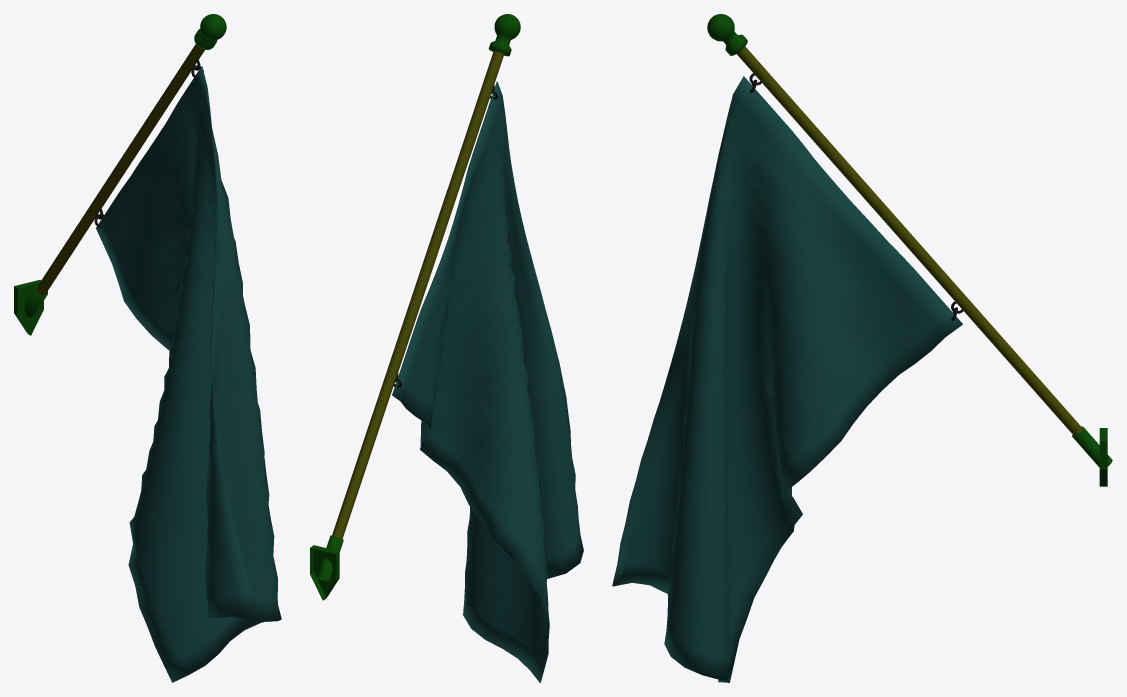
Rendered from Flag.fbx.
3 renders of one model, left to right at view 1: azimuth 30°, elevation 25°; view 2: azimuth 150°, elevation 25°; view 3: azimuth 270°, elevation 25°, orthographic. The views are drawn at different scales.
Parts seen in each view (by area): view 1: ApocalypticFlag01; view 2: ApocalypticFlag01; view 3: ApocalypticFlag01.
Part boxes in pixels (box(x1,y1,x2,y2)): ApocalypticFlag01: box(14, 14, 281, 682); ApocalypticFlag01: box(310, 14, 583, 682); ApocalypticFlag01: box(612, 14, 1112, 682).
Bounding box in the file's own units: 0.3451 × 1.94 × 1.28.
